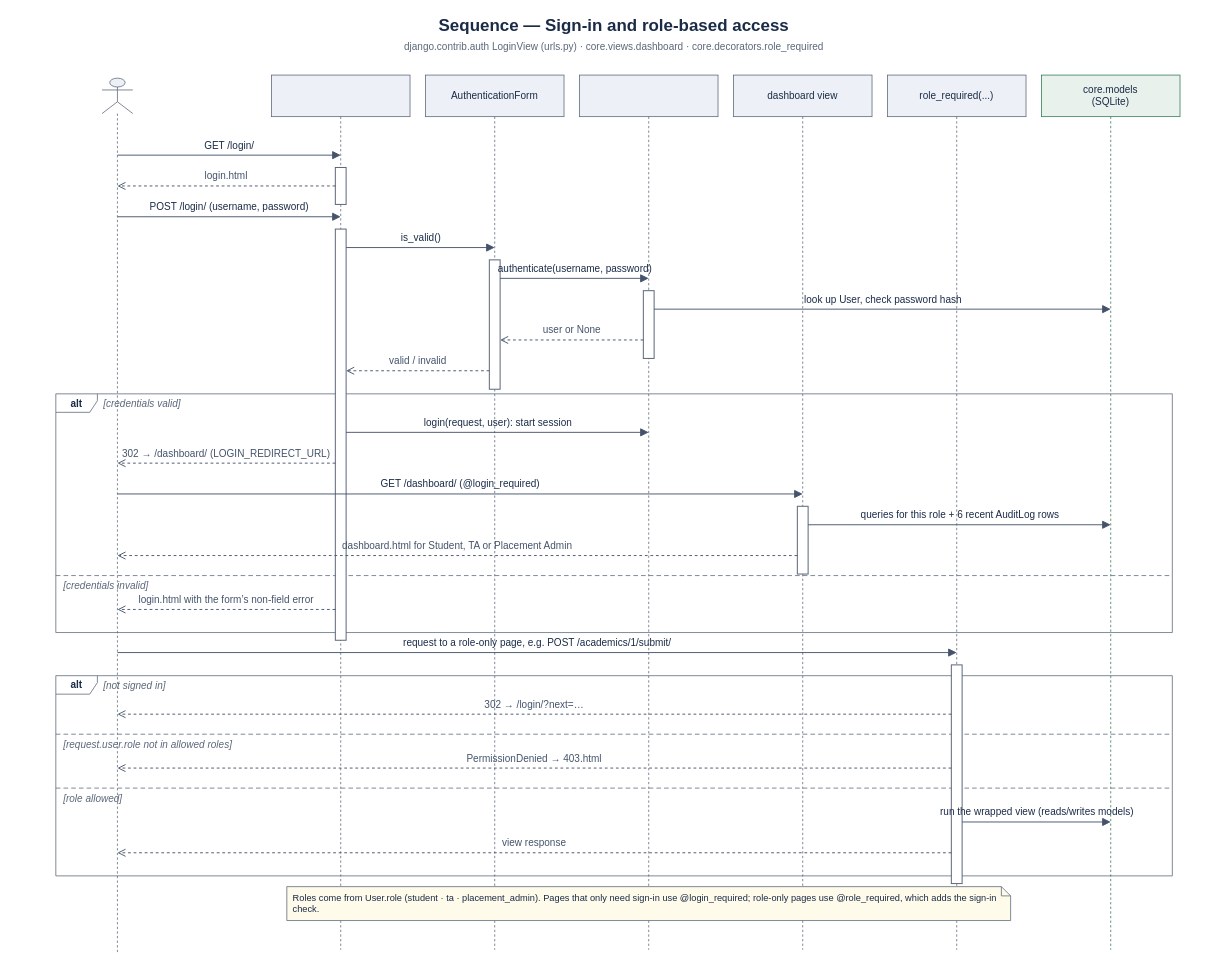
This 1227x966 diagram has some shape labels left out. The shapes that lost their labels are listed below. From the top down, each one's box as (x1, y1, x2, y2) in pixels, then its label:
(101, 77, 133, 953): User
(271, 74, 410, 950): LoginView
(579, 74, 718, 950): Django auth (backend + session)
